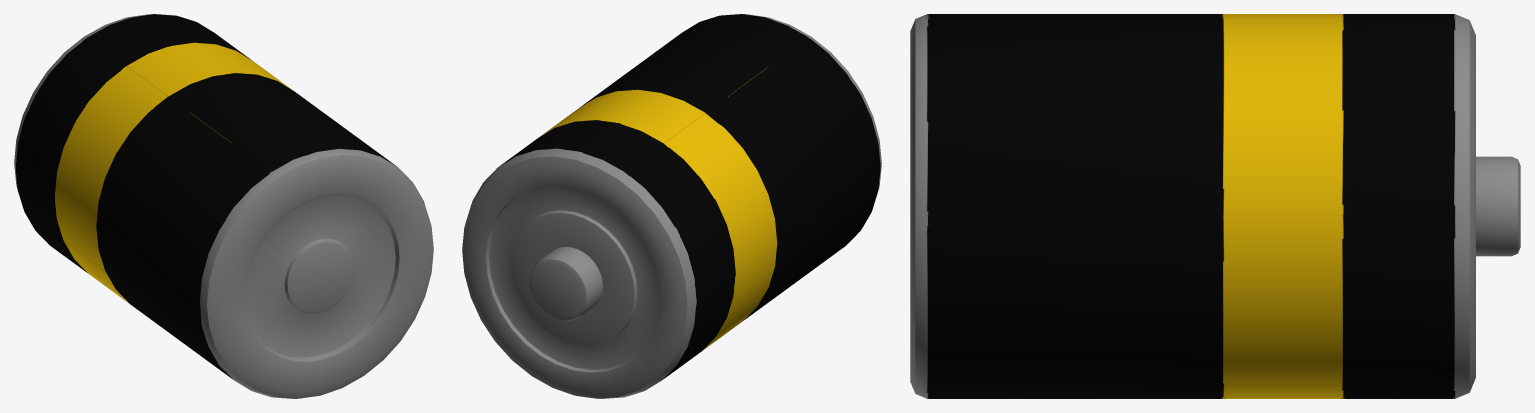
The model's file is battery.fbx.
3 views of the same model, side by side, from view 1: azimuth 30°, elevation 25°; view 2: azimuth 150°, elevation 25°; view 3: azimuth 270°, elevation 25° (orthographic). The views are drawn at different scales.
Visible parts, largest first — view 1: Cylinder.005; view 2: Cylinder.005; view 3: Cylinder.005.
Boxes of the visible parts, <box> form: Cylinder.005: <box>14,14,433,398</box>; Cylinder.005: <box>462,14,881,398</box>; Cylinder.005: <box>910,14,1520,398</box>.
Size of the model in its own units: 3.69 by 3.69 by 5.85.
Materials: 1 (1 with a texture image).
